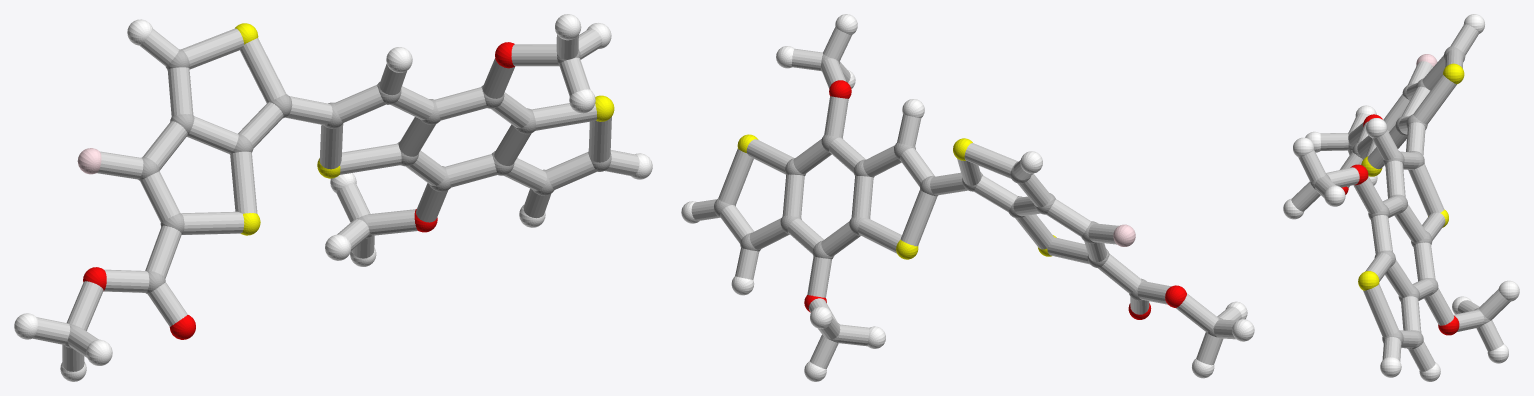
The model's file is Dimethoxy_Benzodithiophene_Phi_15_Theta_60_Methylcarbonyl_3_Fluoro_Thienothiophene.glb.
The picture shows the model from 3 angles, left to right: view 1: azimuth 30°, elevation 25°; view 2: azimuth 150°, elevation 25°; view 3: azimuth 270°, elevation 25°; orthographic projection. The views are drawn at different scales.
Parts seen in each view (by area): view 1: grp15205, grp8689, grp1, grp13395, grp7241; view 2: grp15205, grp8689, grp1, grp13395, grp7241; view 3: grp15205, grp8689, grp1, grp7241, grp13395.
Boxes of the visible parts, x1,y1,x2,y2 form: grp15205: [33, 28, 639, 371]; grp8689: [14, 14, 652, 381]; grp1: [64, 49, 611, 348]; grp13395: [83, 42, 514, 339]; grp7241: [235, 23, 614, 235]; grp15205: [691, 27, 1241, 368]; grp8689: [681, 14, 1254, 381]; grp1: [714, 54, 1222, 342]; grp13395: [804, 80, 1186, 319]; grp7241: [737, 134, 1056, 259]; grp15205: [1291, 24, 1510, 371]; grp8689: [1283, 14, 1519, 381]; grp1: [1310, 46, 1490, 349]; grp7241: [1358, 63, 1464, 290]; grp13395: [1341, 114, 1459, 335].
Bounding box in the file's own units: 17.03 × 7.97 × 6.63.
